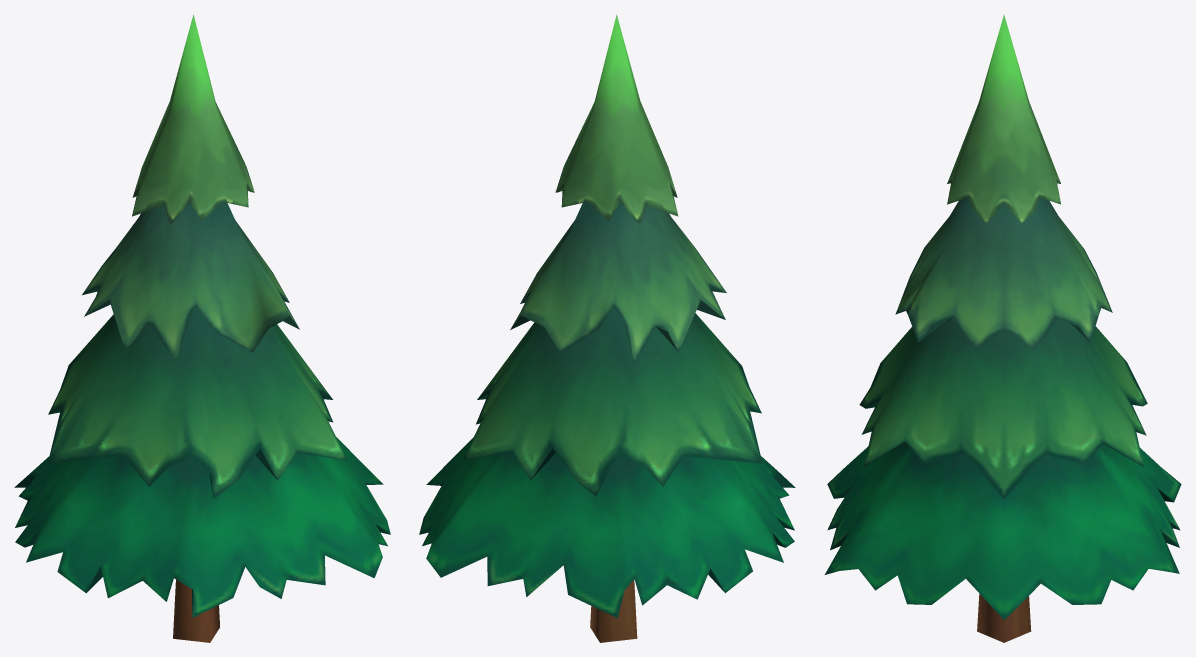
The model's file is rc_01_plt_03.FBX.
3 views of the same model, side by side, from view 1: azimuth 30°, elevation 25°; view 2: azimuth 150°, elevation 25°; view 3: azimuth 270°, elevation 25° (orthographic).
Visible parts, largest first — view 1: rc_01_plt_03_01; view 2: rc_01_plt_03_01; view 3: rc_01_plt_03_01.
Boxes of the visible parts, x1,y1,x2,y2 form: rc_01_plt_03_01: (14, 14, 390, 642); rc_01_plt_03_01: (419, 14, 795, 642); rc_01_plt_03_01: (825, 14, 1181, 642).
Size of the model in its own units: 1209 by 1051 by 2000.
